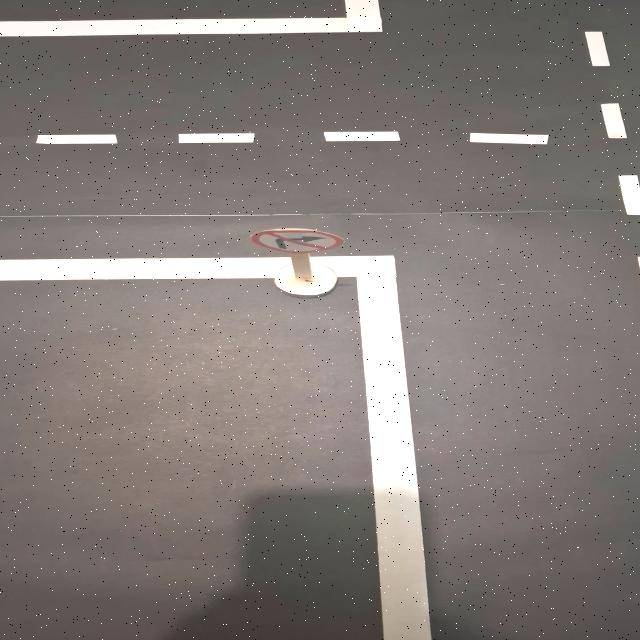Dilarang Belok Kanan: (251, 229, 345, 254)
